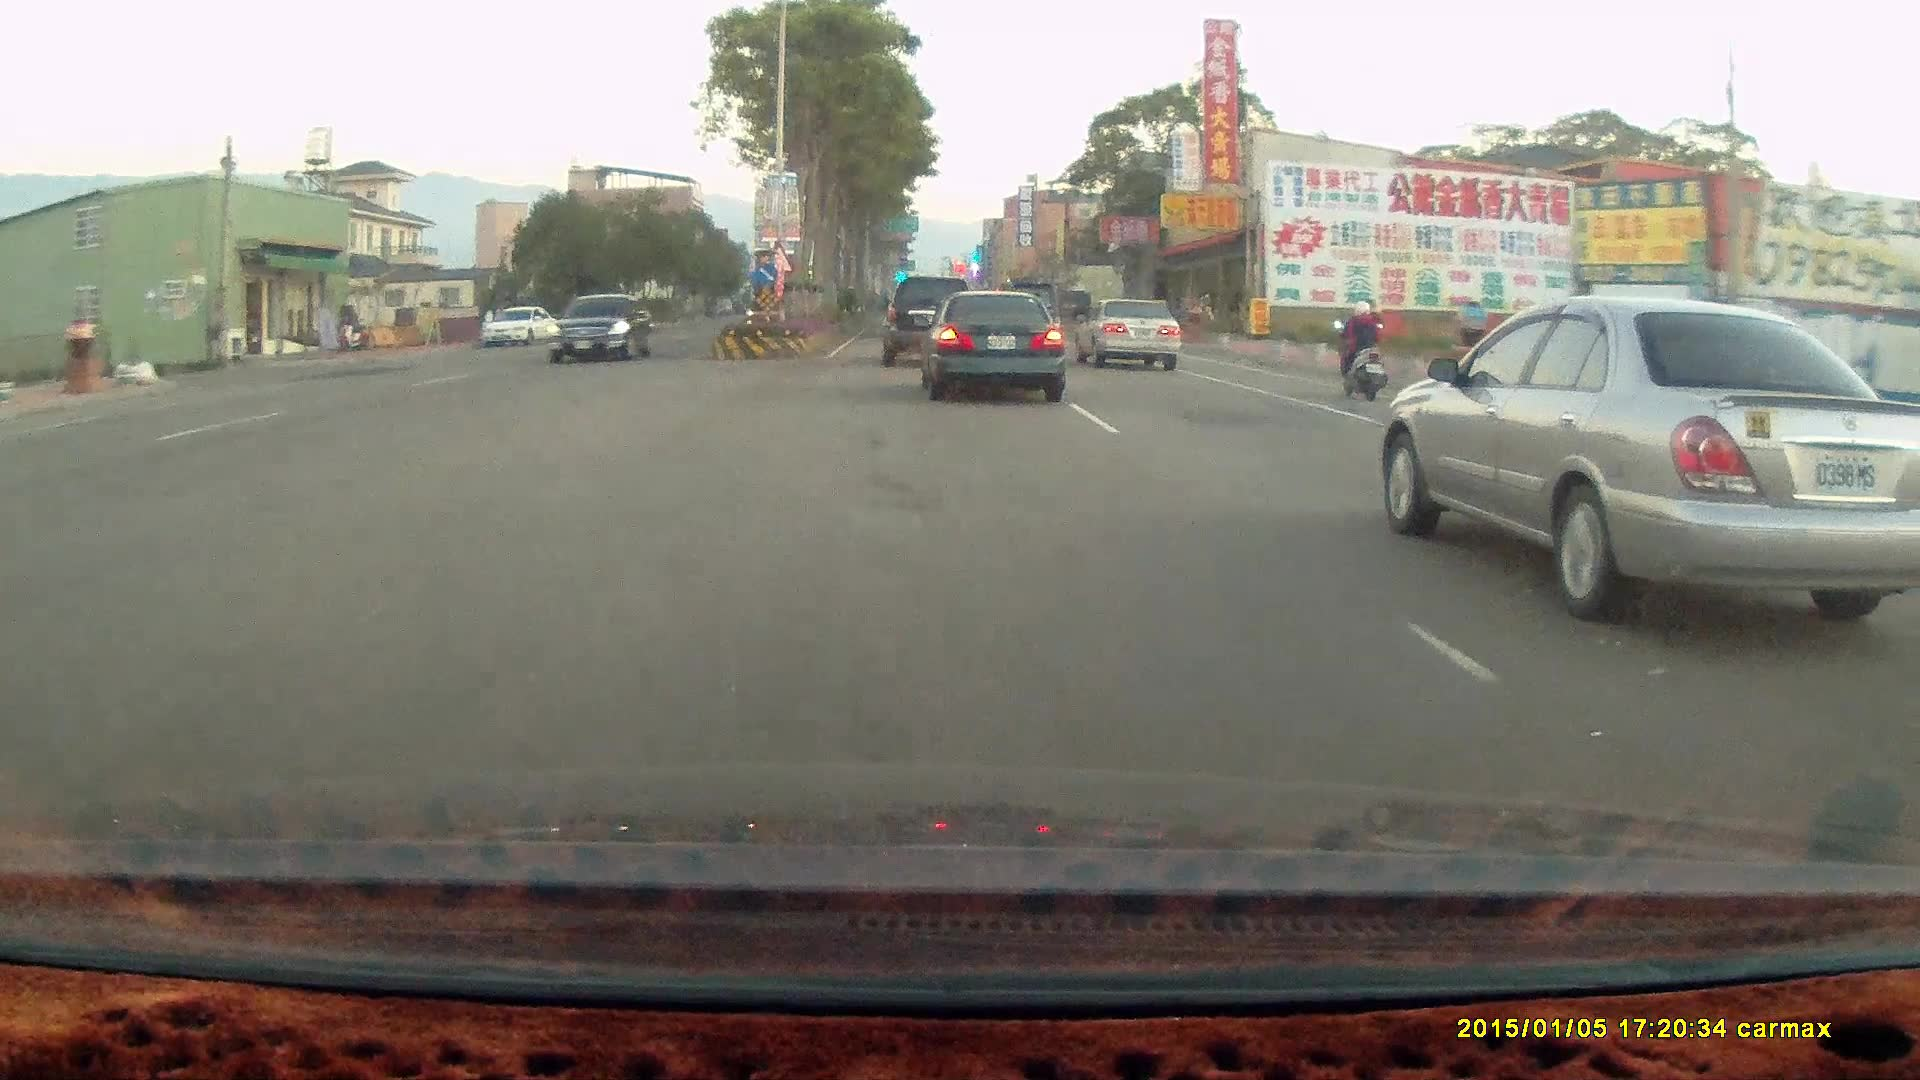rider: (1324, 289, 1397, 410), (1335, 297, 1387, 399)
vehicle: (1376, 291, 1920, 613), (913, 284, 1065, 398), (923, 287, 1069, 402), (882, 271, 980, 370), (879, 274, 972, 364), (1074, 293, 1181, 369), (1078, 296, 1184, 367), (552, 294, 656, 364), (548, 294, 651, 362), (479, 305, 560, 350), (479, 304, 558, 346)
